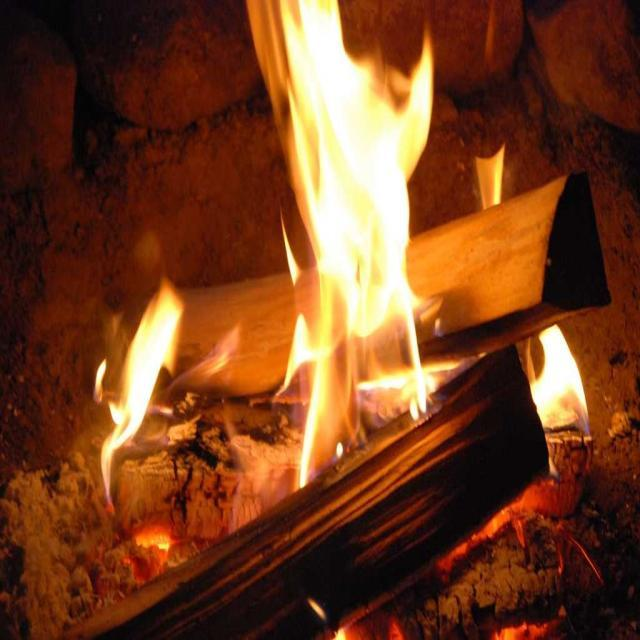Fire: (317, 50, 402, 335), (122, 328, 167, 405), (542, 366, 580, 430)
